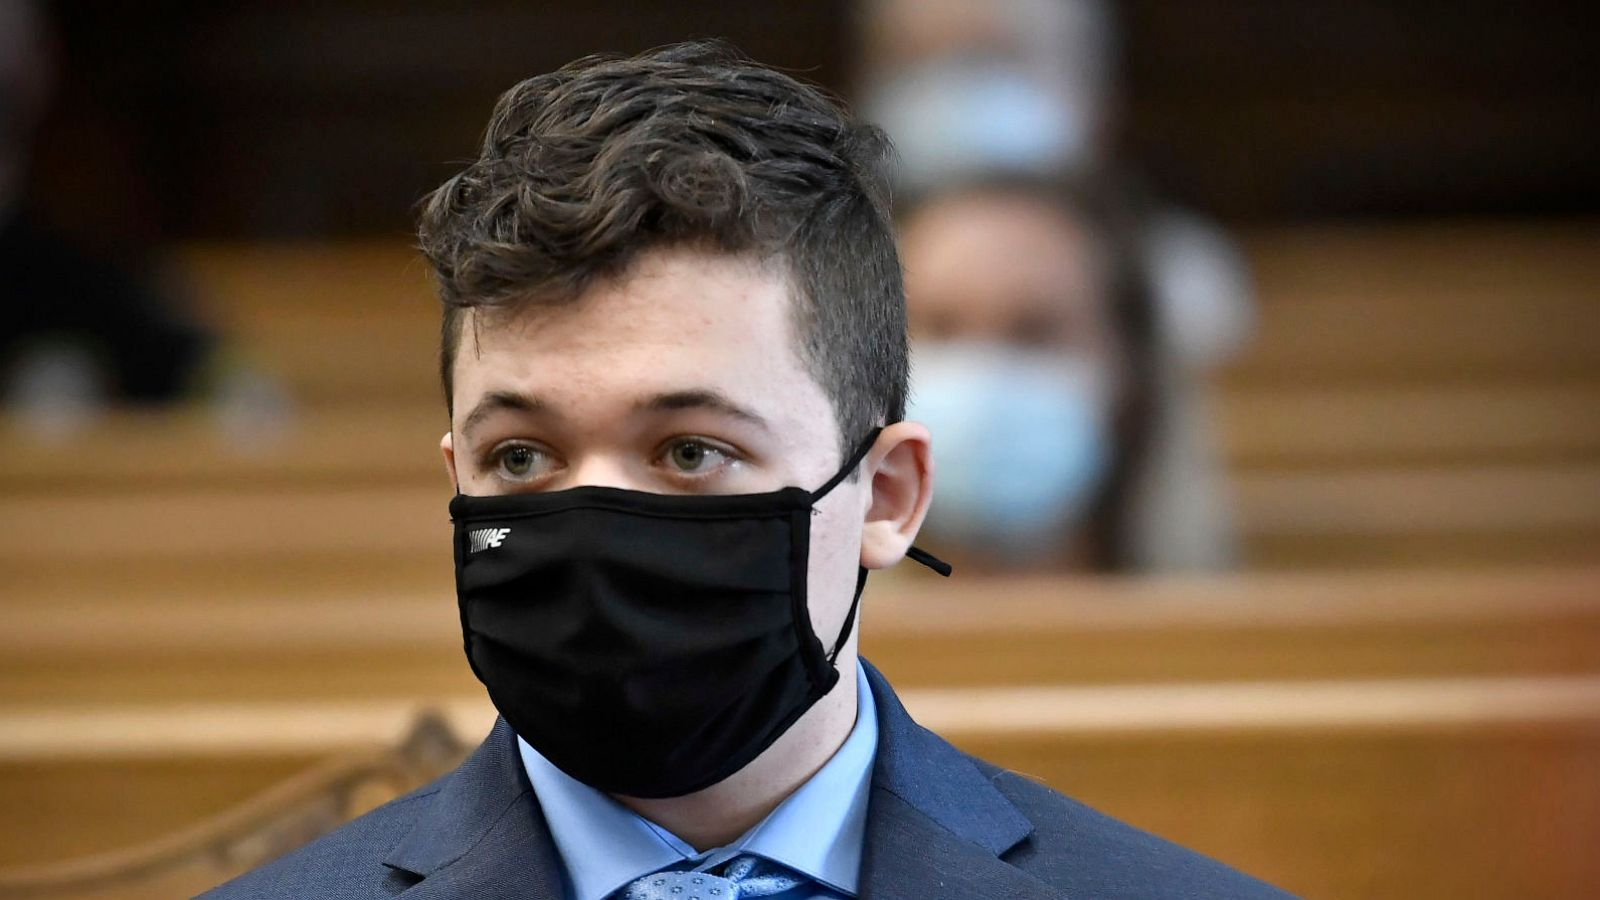person: (172, 42, 1300, 900)
